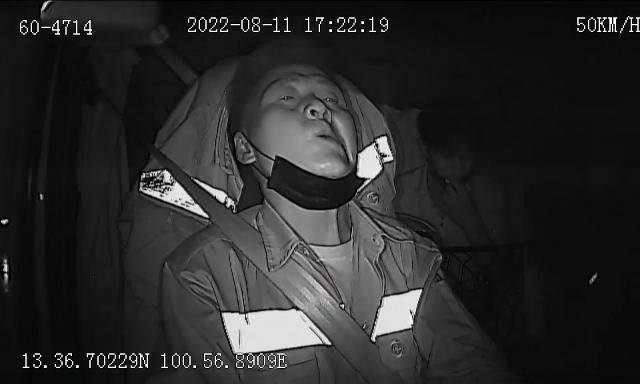SafeDriving: (298, 98, 326, 122)
Seatbelt: (92, 70, 406, 384)
